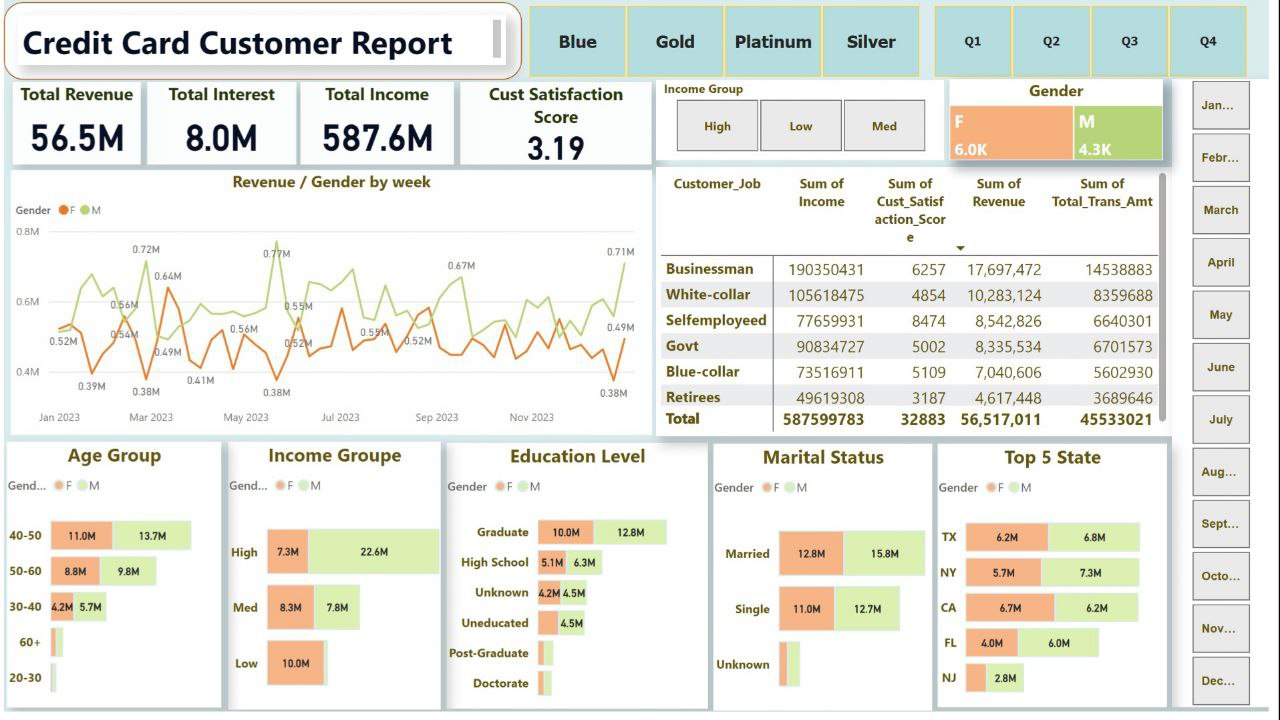

The dashboard page shown, as its layout file describes it:
{"tool":"powerbi","page":{"name":"Credit Card Customer Report","canvas":[1280,720],"ordinal":1},"visuals":[{"type":"shape","box":[0,2.2,524.2,78.8],"z":0},{"type":"textbox","box":[13.5,14.6,493.9,50.6],"z":1000},{"type":"card","title":"Total Revenue","fields":{"Values":["Sum(credit card.Revenue)"]},"box":[9,83.2,129.4,83.2],"z":2000},{"type":"card","title":"Total Interest","fields":{"Values":["Sum(credit card.Interest_Earned)"]},"box":[145.1,83.2,150.8,83.2],"z":3000},{"type":"card","title":"Total Income","fields":{"Values":["Sum(customer.Income)"]},"box":[300.4,83.2,155.2,83.2],"z":4000},{"type":"card","title":" Cust Satisfaction Score","fields":{"Values":["Avg(customer.Cust_Satisfaction_Score)"]},"box":[462.4,83.2,193.5,83.2],"z":5000},{"type":"barChart","title":"Education Level","fields":{"Category":["customer.Education_Level"],"Y":["Sum(credit card.Revenue)"],"Series":["customer.Gender"]},"box":[447.8,447.8,264.4,268.9],"z":7000},{"type":"pivotTable","fields":{"Rows":["customer.Customer_Job"],"Values":["Sum(customer.Income)","Sum(customer.Cust_Satisfaction_Score)","Sum(credit card.Revenue)","Sum(credit card.Total_Trans_Amt)"]},"box":[660.4,168.8,522,272.2],"z":8000},{"type":"slicer","fields":{"Values":["credit card.Card_Category"]},"box":[511,4,434.2,75.4],"z":9000},{"type":"slicer","fields":{"Values":["credit card.Qtr"]},"box":[921,4,355.5,75.4],"z":10000},{"type":"slicer","fields":{"Values":["credit card.Week_Start_Date.Variation.Date Hierarchy.Month"]},"box":[1182.4,79.9,97.9,635.6],"z":11000},{"type":"slicer","fields":{"Values":["customer.Income Group"]},"box":[660.4,81,291.4,81],"z":12000},{"type":"barChart","title":"Marital Status","fields":{"Y":["Sum(credit card.Revenue)"],"Series":["customer.Gender"],"Category":["customer.Marital_Status"]},"box":[717.8,448.9,221.6,270],"z":13000},{"type":"barChart","title":"Income Groupe","fields":{"Y":["Sum(credit card.Revenue)"],"Series":["customer.Gender"],"Category":["customer.Income Group"]},"box":[227.2,446.6,214.9,271.1],"z":14000},{"type":"barChart","title":"Age Group","fields":{"Y":["Sum(credit card.Revenue)"],"Series":["customer.Gender"],"Category":["customer.Age Group"]},"box":[3.4,446.6,217.1,268.9],"z":15000},{"type":"barChart","title":"Top 5 State","fields":{"Y":["Sum(credit card.Revenue)"],"Series":["customer.Gender"],"Category":["customer.state_cd"]},"box":[945,448.9,231.8,266.6],"z":16000},{"type":"lineChart","title":"Revenue / Gender by week","fields":{"Y":["Sum(credit card.Revenue)"],"Series":["customer.Gender"],"Category":["credit card.Week_Start_Date.Variation.Date Hierarchy.Year","credit card.Week_Start_Date.Variation.Date Hierarchy.Quarter","credit card.Week_Start_Date.Variation.Date Hierarchy.Month","credit card.Week_Start_Date.Variation.Date Hierarchy.Day"]},"box":[6.8,172.1,649.1,267.8],"z":17000},{"type":"treemap","title":" Gender ","fields":{"Group":["customer.Gender"],"Values":["CountNonNull(customer.Gender)"]},"box":[957.4,79.9,216,82.1],"z":17001}]}

Visuals, with their boxes in screenshot pixels (x1, y1, x2, y2), scaled from the page's 1280x720 canvas onto the 1280x720 screenshot:
shape: [0,2,524,81]
textbox: [14,15,507,65]
"Total Revenue" card: [9,83,138,166]
"Total Interest" card: [145,83,296,166]
"Total Income" card: [300,83,456,166]
" Cust Satisfaction Score" card: [462,83,656,166]
"Education Level" barChart: [448,448,712,717]
pivotTable - customer.Customer_Job x Sum(customer.Income): [660,169,1182,441]
slicer - credit card.Card_Category: [511,4,945,79]
slicer - credit card.Qtr: [921,4,1276,79]
slicer - credit card.Week_Start_Date.Variation.Date Hierarchy.Month: [1182,80,1279,716]
slicer - customer.Income Group: [660,81,952,162]
"Marital Status" barChart: [718,449,939,719]
"Income Groupe" barChart: [227,447,442,718]
"Age Group" barChart: [3,447,220,716]
"Top 5 State" barChart: [945,449,1177,716]
"Revenue / Gender by week" lineChart: [7,172,656,440]
" Gender " treemap: [957,80,1173,162]
